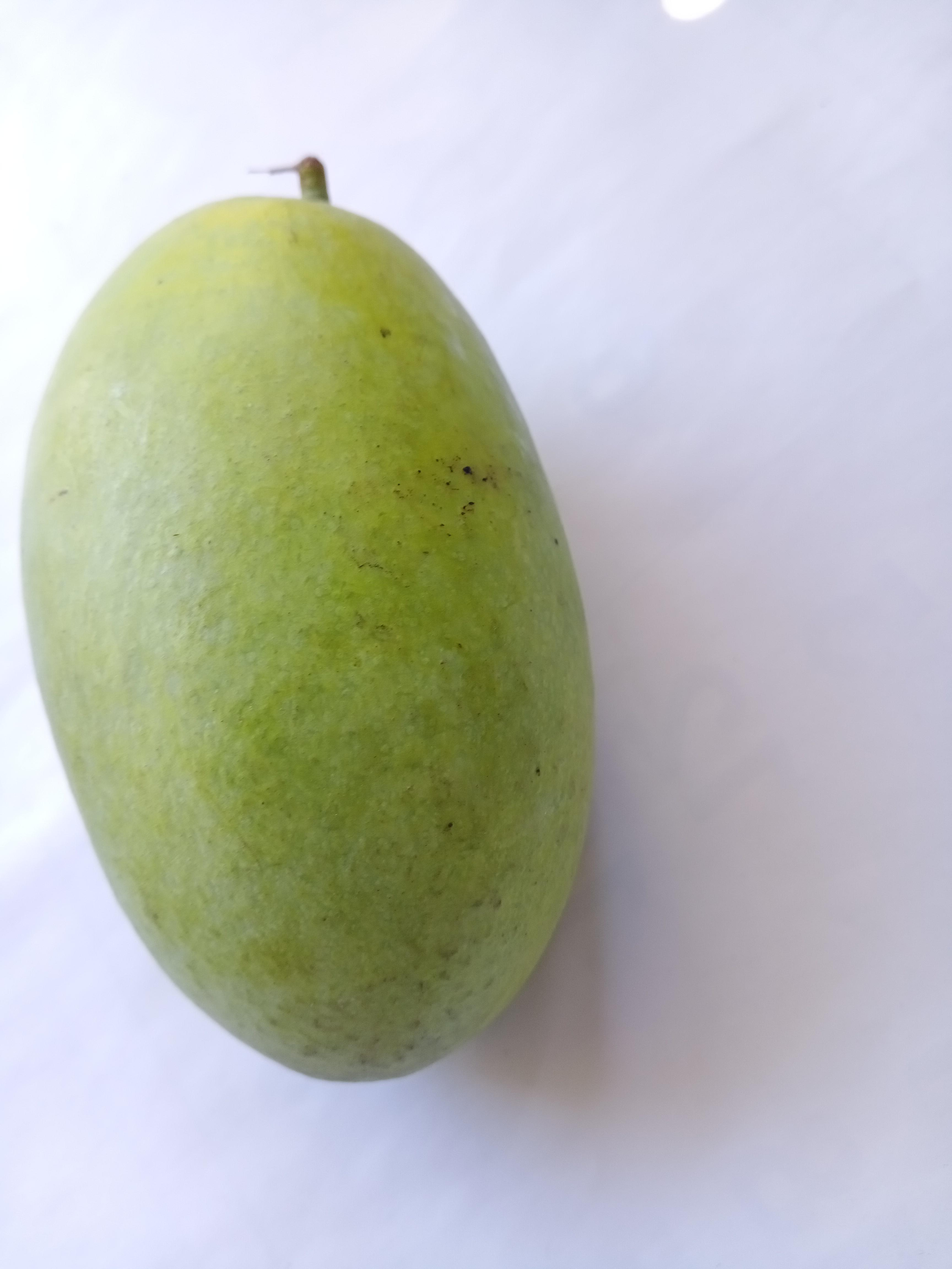Mango Unripe: (0, 113, 639, 1115)
